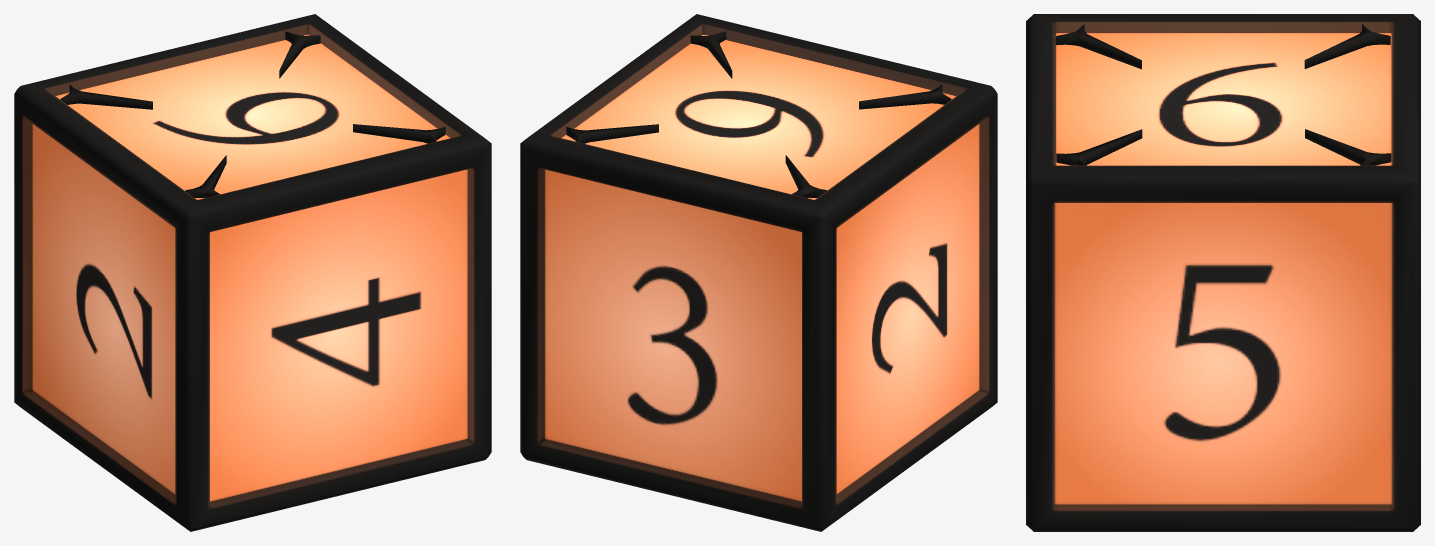
Rendered from crucible_d6.glb.
The picture shows the model from 3 angles, left to right: view 1: azimuth 30°, elevation 25°; view 2: azimuth 150°, elevation 25°; view 3: azimuth 270°, elevation 25°; orthographic projection. The views are drawn at different scales.
Visible parts, largest first — view 1: Mesh_0; view 2: Mesh_0; view 3: Mesh_0.
Boxes of the visible parts, bbox=[...] form: Mesh_0: bbox=[14, 14, 491, 531]; Mesh_0: bbox=[520, 14, 997, 531]; Mesh_0: bbox=[1026, 14, 1420, 531].
Bounding box in the file's own units: 104 × 104 × 104.
Materials: 1 (1 with a texture image).
